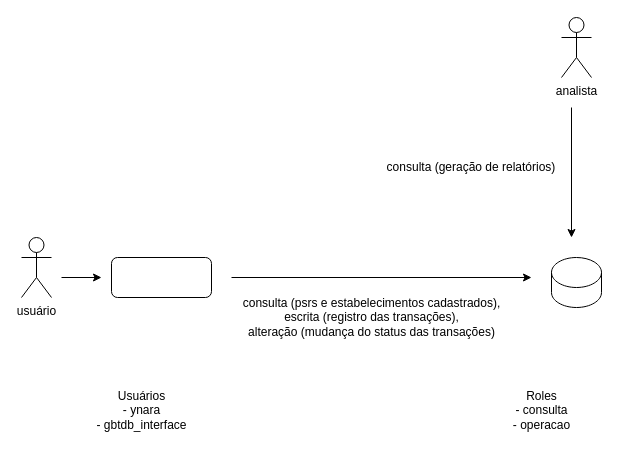
Image size: 619x458. Some labels were removed from this diagram. The centre of each missing label's shape, as x and y in pixels:
gbtdb: (x=576, y=282)
gbtdb.interface: (x=161, y=277)
